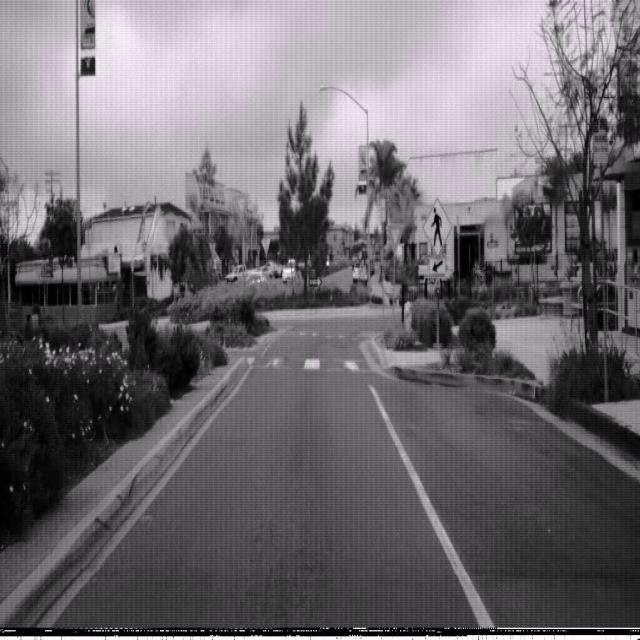pedestrianCrossing: (421, 196, 453, 259)
yield: (386, 223, 404, 255)
